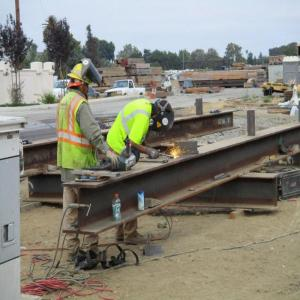none: (153, 99, 175, 130)
yellow: (71, 64, 94, 95)
